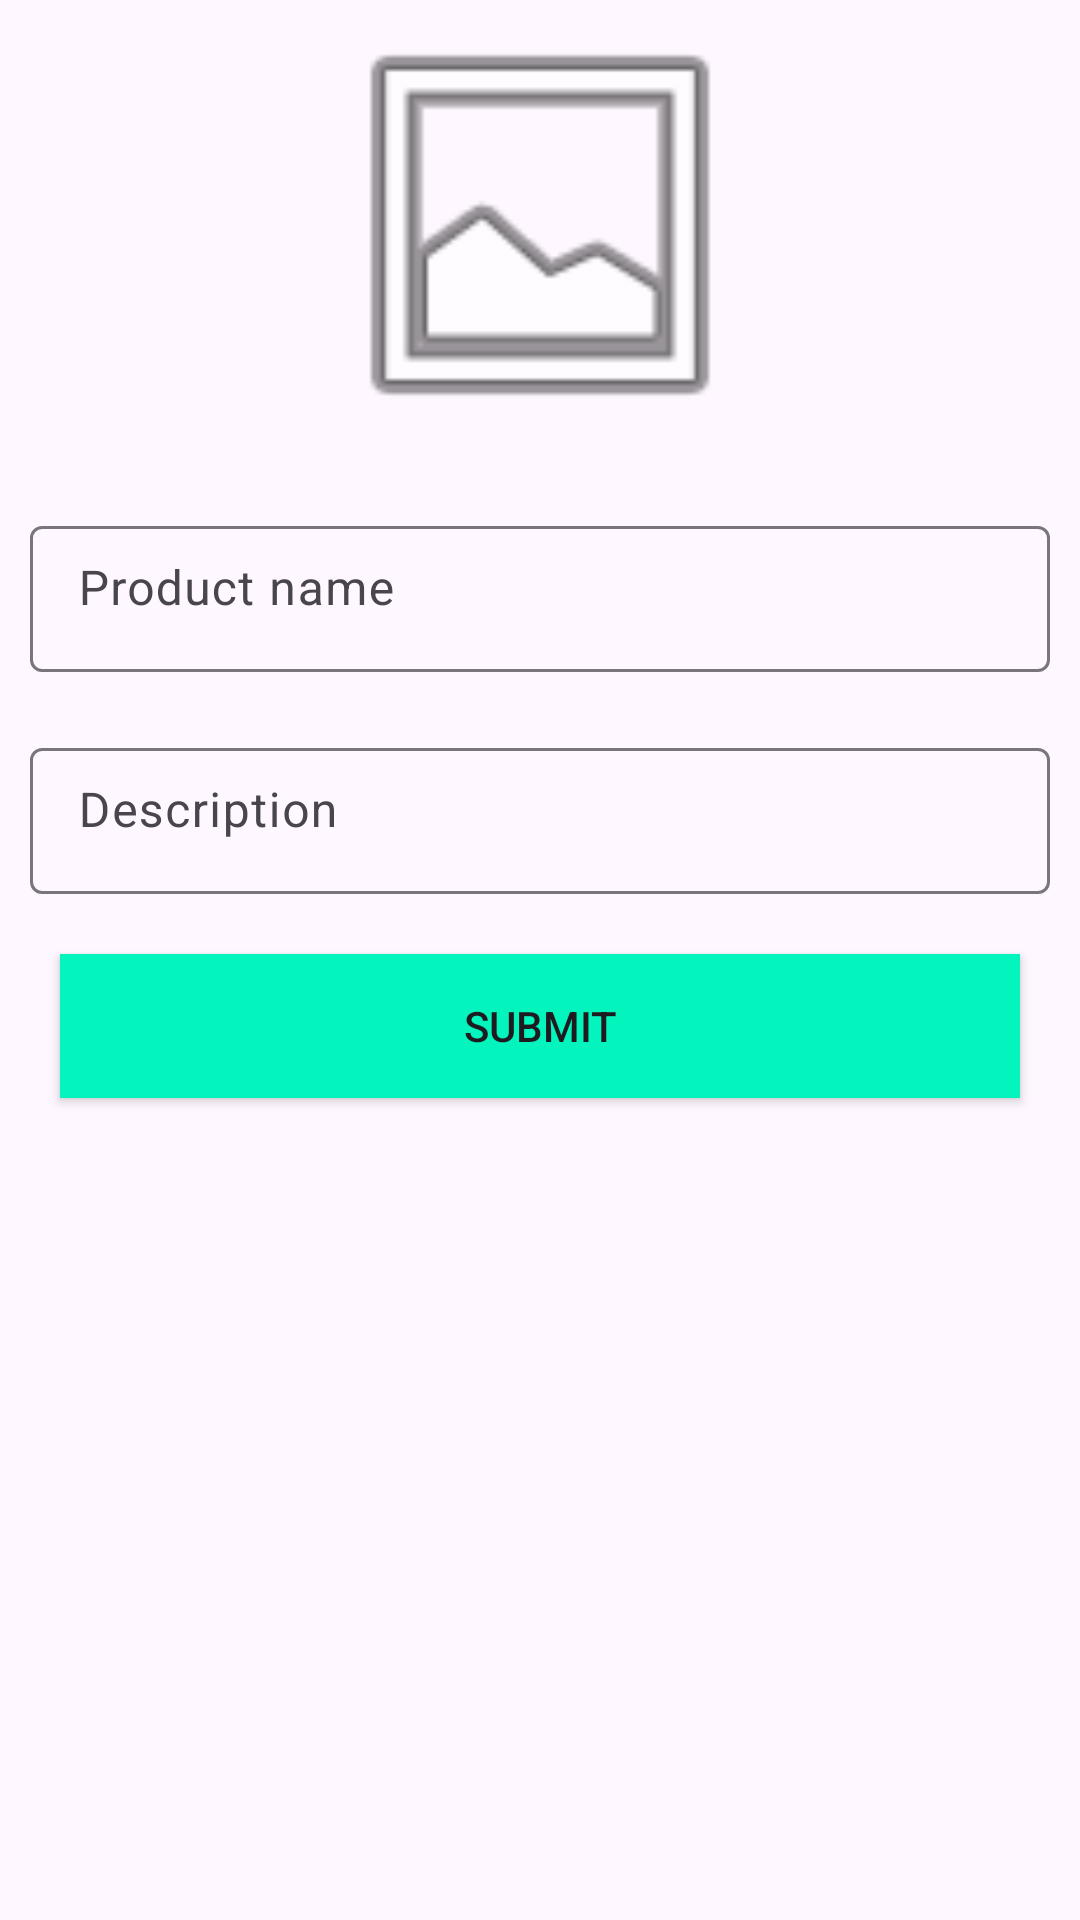

Named icons in this screenshot (1080 × 1920) and their centers, [x,y]:
gallery: [540,225]
